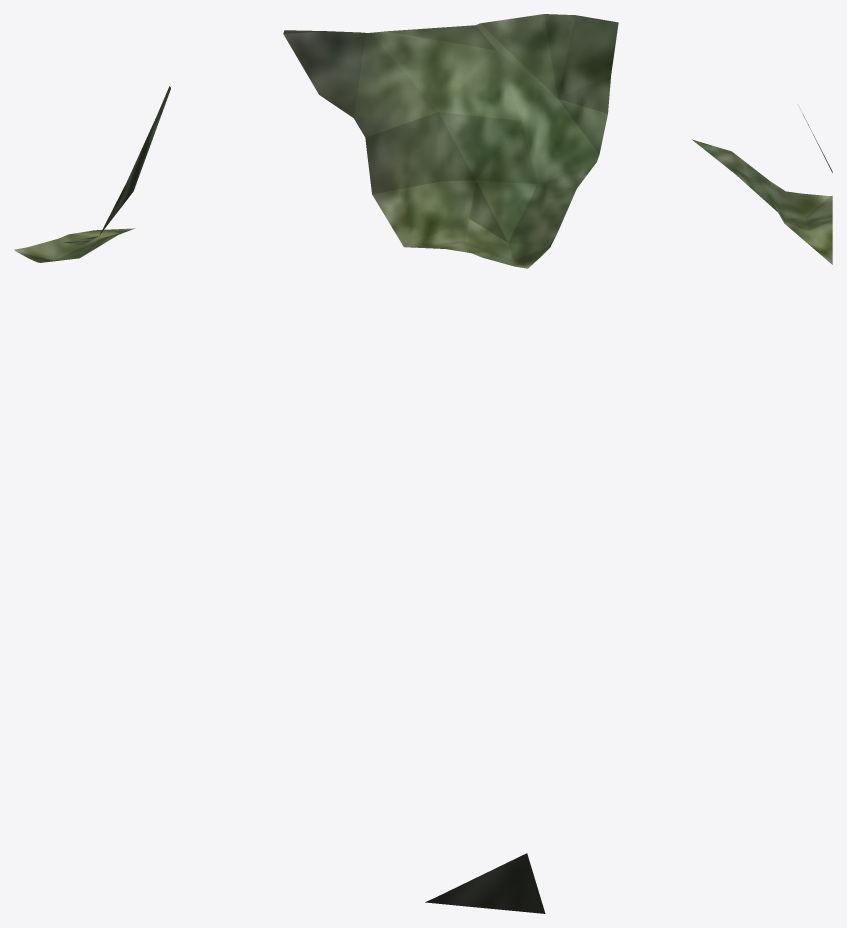
The picture shows the model from 3 angles, left to right: view 1: azimuth 30°, elevation 25°; view 2: azimuth 150°, elevation 25°; view 3: azimuth 270°, elevation 25°; orthographic projection. The views are drawn at different scales.
Bounding box in the file's own units: 0.8981 × 2.95 × 0.584.
1 material, 1 textured.
